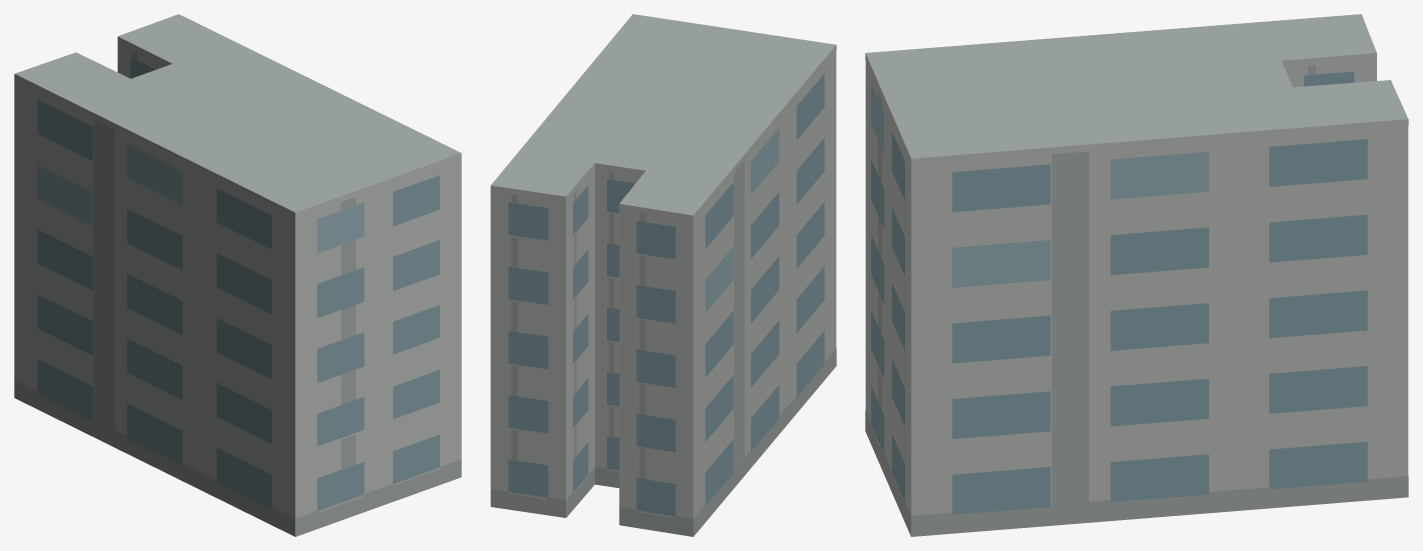
File: survey-upis-32881936.glb
3 renders of one model, left to right at view 1: azimuth 30°, elevation 25°; view 2: azimuth 150°, elevation 25°; view 3: azimuth 270°, elevation 25°, orthographic. The views are drawn at different scales.
Visible parts, largest first — view 1: survey-upis-32881936.tmp; view 2: survey-upis-32881936.tmp; view 3: survey-upis-32881936.tmp.
Part boxes in pixels (bbox=[...]): survey-upis-32881936.tmp: bbox=[14, 14, 461, 536]; survey-upis-32881936.tmp: bbox=[490, 14, 836, 536]; survey-upis-32881936.tmp: bbox=[865, 14, 1408, 536].
Size of the model in its own units: 10.88 by 13.25 by 17.25.
